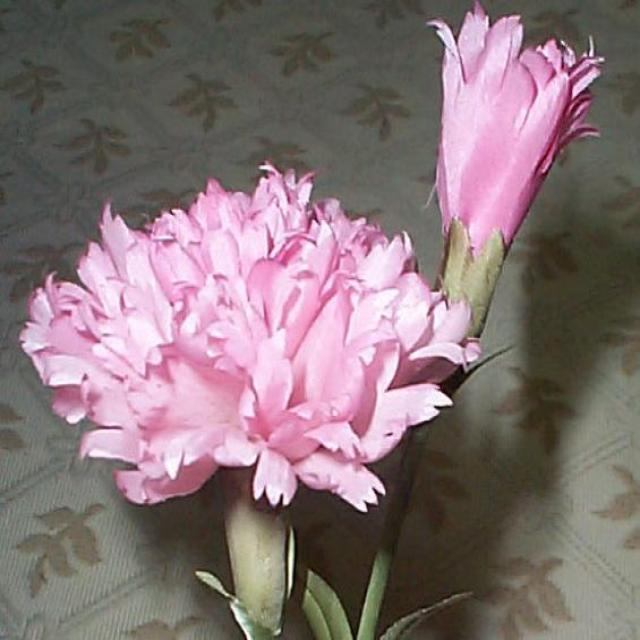carnation: (38, 188, 454, 510), (418, 18, 606, 294)
